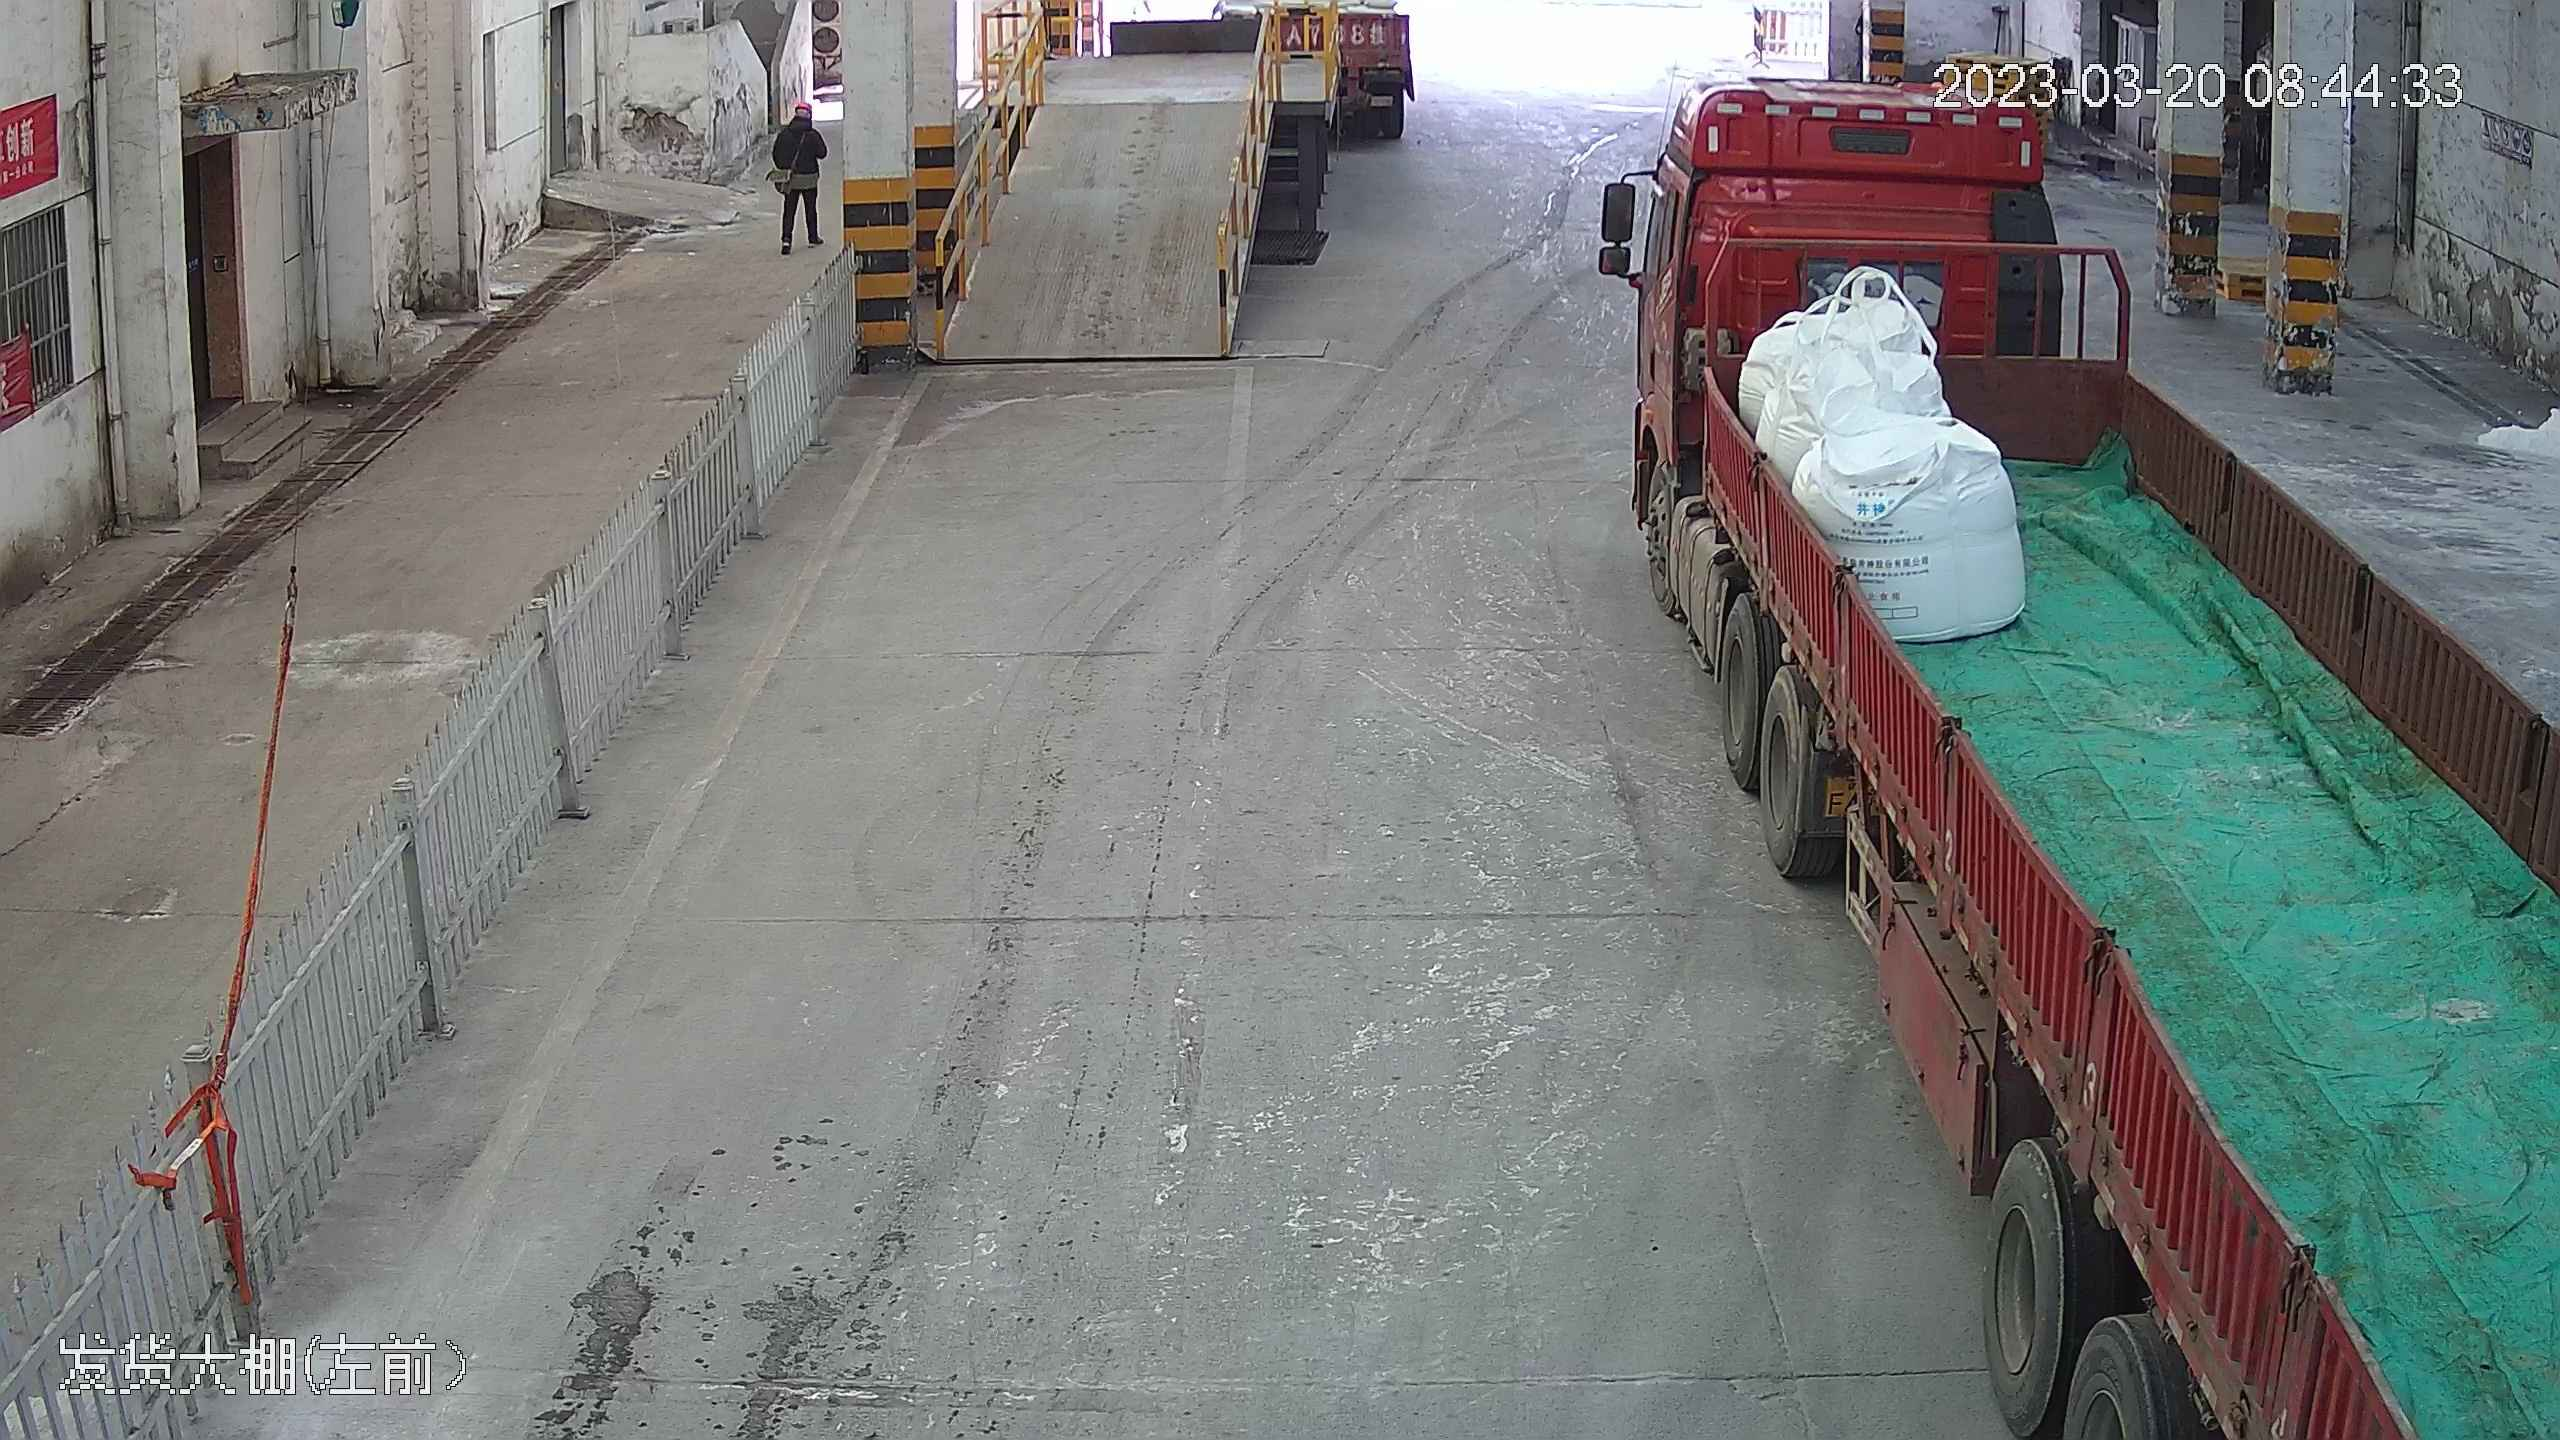head: (776, 93, 819, 143)
people: (769, 90, 825, 255)
truck: (1602, 50, 2560, 1440)
